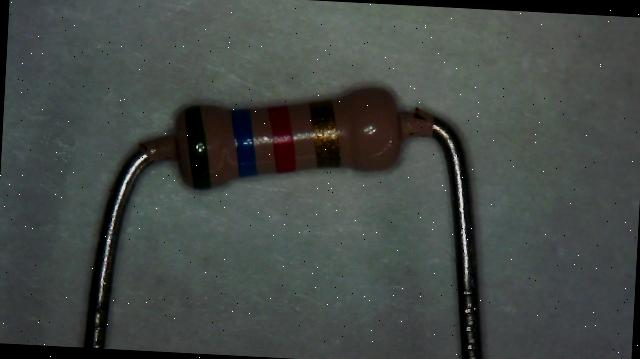blue: (228, 108, 260, 176)
gold: (307, 98, 343, 166)
green: (180, 104, 215, 189)
red: (264, 104, 298, 172)
resistor: (137, 68, 419, 214)
